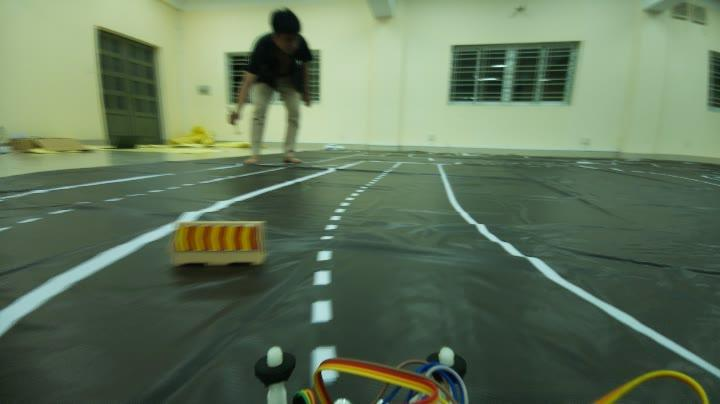roadblock: (172, 214, 273, 270)
